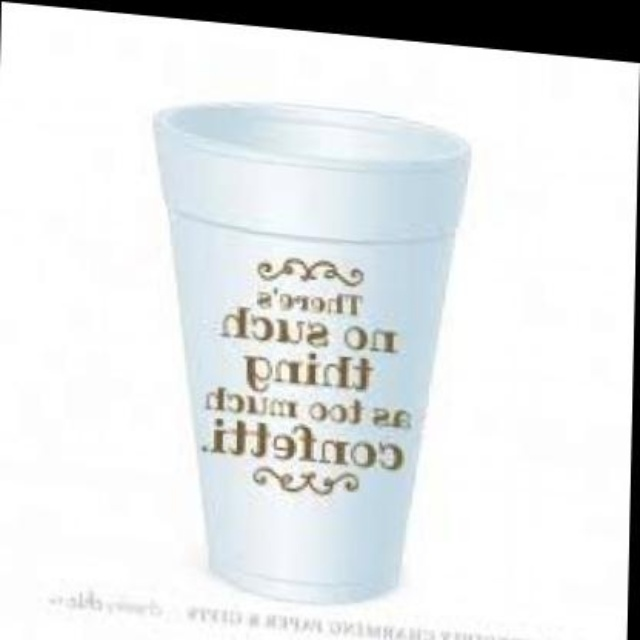trash: (155, 103, 468, 602)
